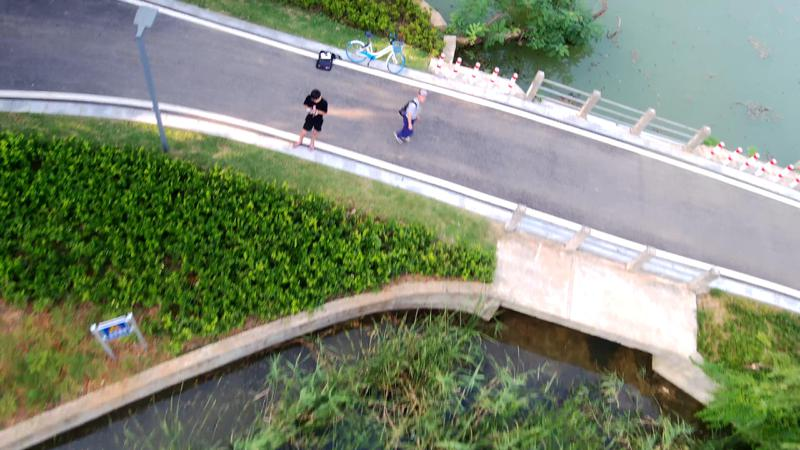passerby: (289, 86, 328, 153), (392, 85, 428, 145)
